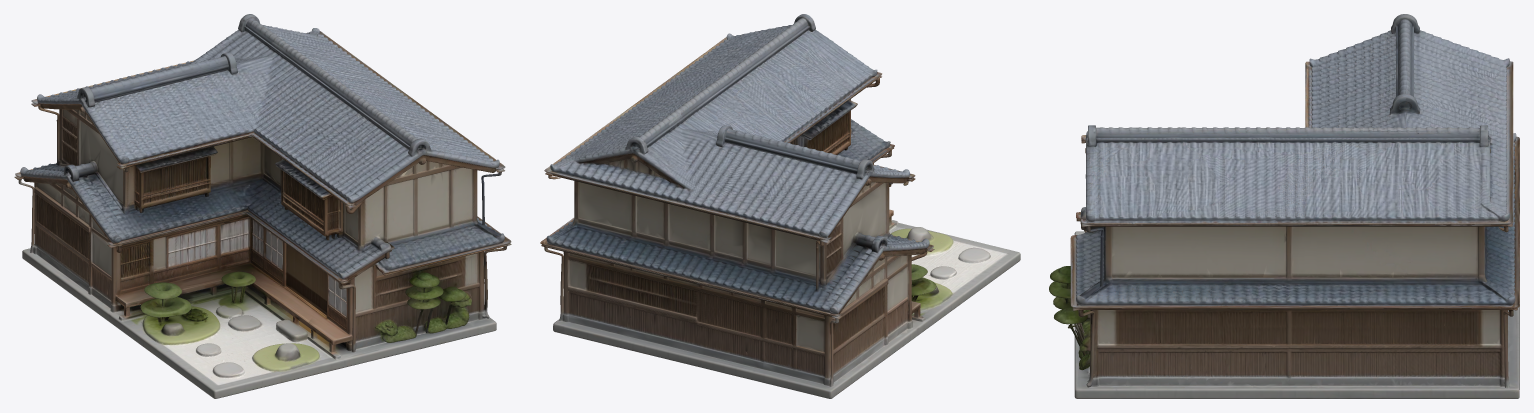
The model's file is 日本町家3D图.glb.
3 renders of one model, left to right at view 1: azimuth 30°, elevation 25°; view 2: azimuth 150°, elevation 25°; view 3: azimuth 270°, elevation 25°, orthographic. The views are drawn at different scales.
Parts seen in each view (by area): view 1: node_0; view 2: node_0; view 3: node_0.
Boxes of the visible parts, x1=… form: node_0: x1=14, y1=14, x2=511, y2=398; node_0: x1=540, y1=14, x2=1020, y2=398; node_0: x1=1049, y1=14, x2=1519, y2=398.
Size of the model in its own units: 0.7431 by 0.4725 by 0.863.
1 material, 1 textured.
